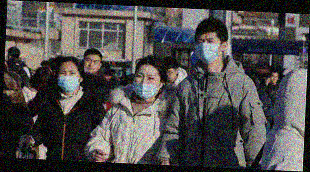with_mask: (133, 70, 162, 100), (194, 34, 223, 63), (55, 68, 82, 94)
without_mask: (83, 56, 100, 73), (166, 67, 177, 82), (272, 72, 280, 84)
